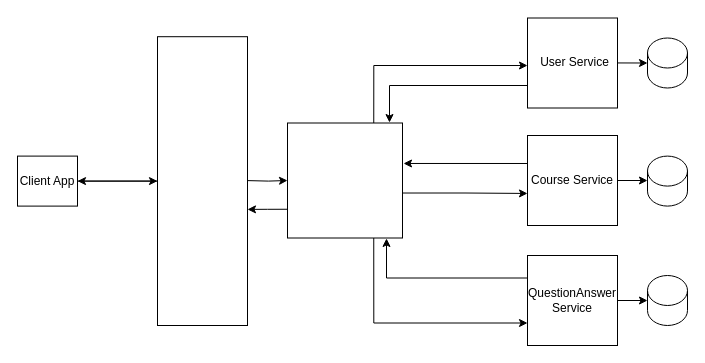
Some shapes in this 705 by 363 pixel diagram are drawn without their labels. The centre of each missing label's shape, as x and y in pixels:
API Gateway: (202,181)
Service Discovery (Eureka): (344,180)
